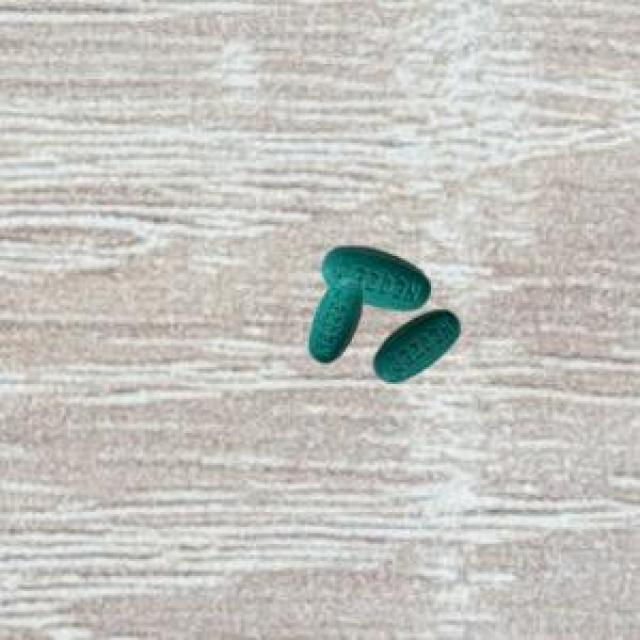Neozep: (288, 232, 474, 395)
